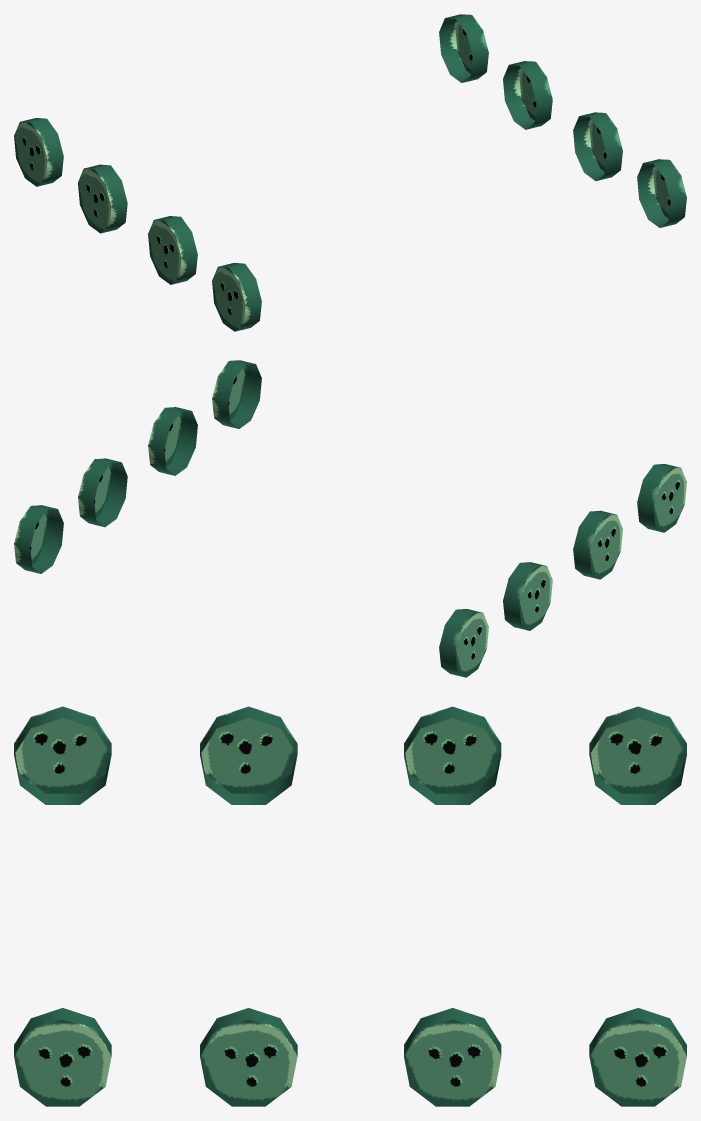
The model's file is conveyor belt wheels model.fbx.
The picture shows the model from 3 angles, top to bottom: view 1: azimuth 30°, elevation 25°; view 2: azimuth 150°, elevation 25°; view 3: azimuth 270°, elevation 25°; orthographic projection. The views are drawn at different scales.
Parts seen in each view (by area): view 1: Object002; view 2: Object002; view 3: Object002.
Boxes of the visible parts, box(x1,y1,x2,y2) form: Object002: box(14, 14, 686, 331); Object002: box(14, 360, 686, 677); Object002: box(14, 706, 686, 1106).
Size of the model in its own units: 36.06 by 4.68 by 32.77.
Materials: 1 (1 with a texture image).
